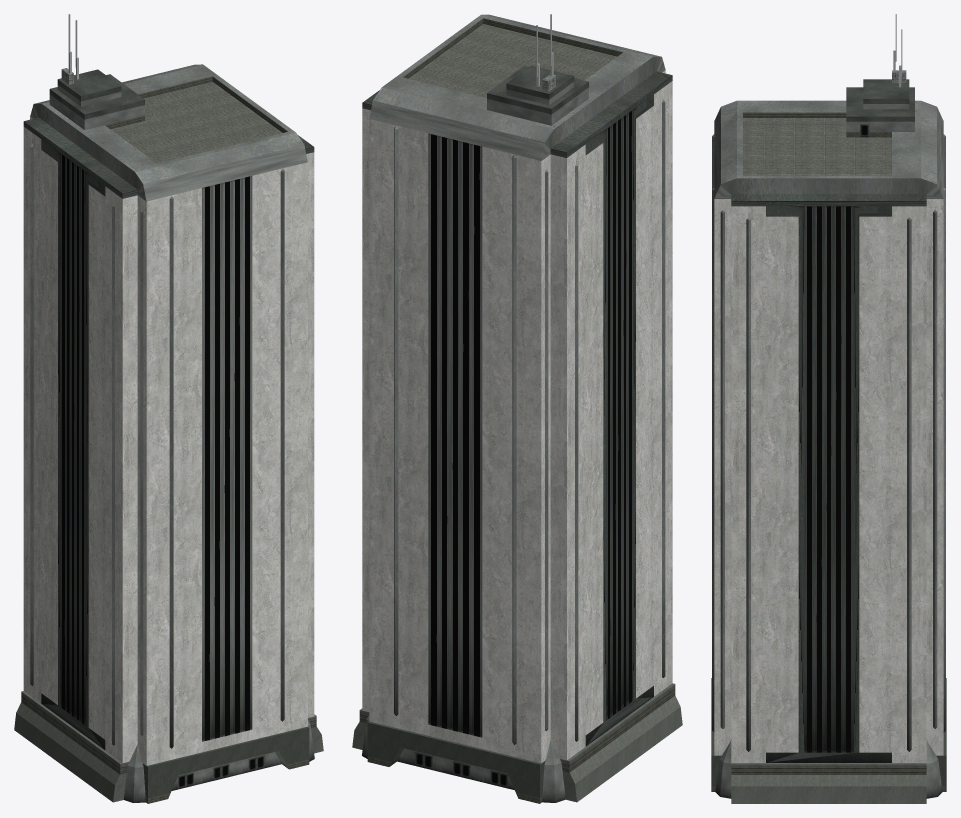
File: thm_corl_imprv_building_s01_r0_mesh_l2.fbx
The picture shows the model from 3 angles, left to right: view 1: azimuth 30°, elevation 25°; view 2: azimuth 150°, elevation 25°; view 3: azimuth 270°, elevation 25°; orthographic projection. The views are drawn at different scales.
Visible parts, largest first — view 1: mesh_node; view 2: mesh_node; view 3: mesh_node.
Part boxes in pixels (x1,y1,x2,y2): mesh_node: (14, 14, 323, 803); mesh_node: (352, 14, 682, 803); mesh_node: (711, 14, 946, 803).
Bounding box in the file's own units: 41.8 × 136 × 41.
